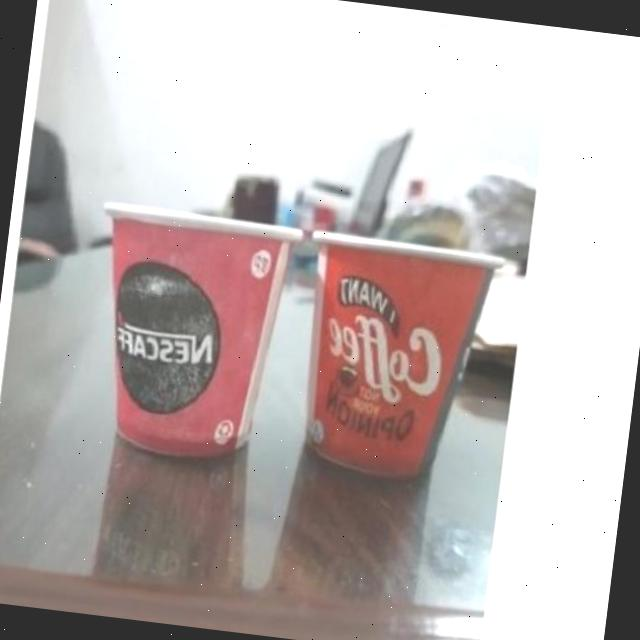trash: (62, 142, 315, 520), (282, 176, 528, 525)
